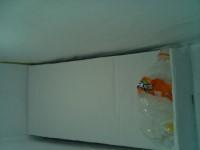bottle: (135, 47, 173, 148)
